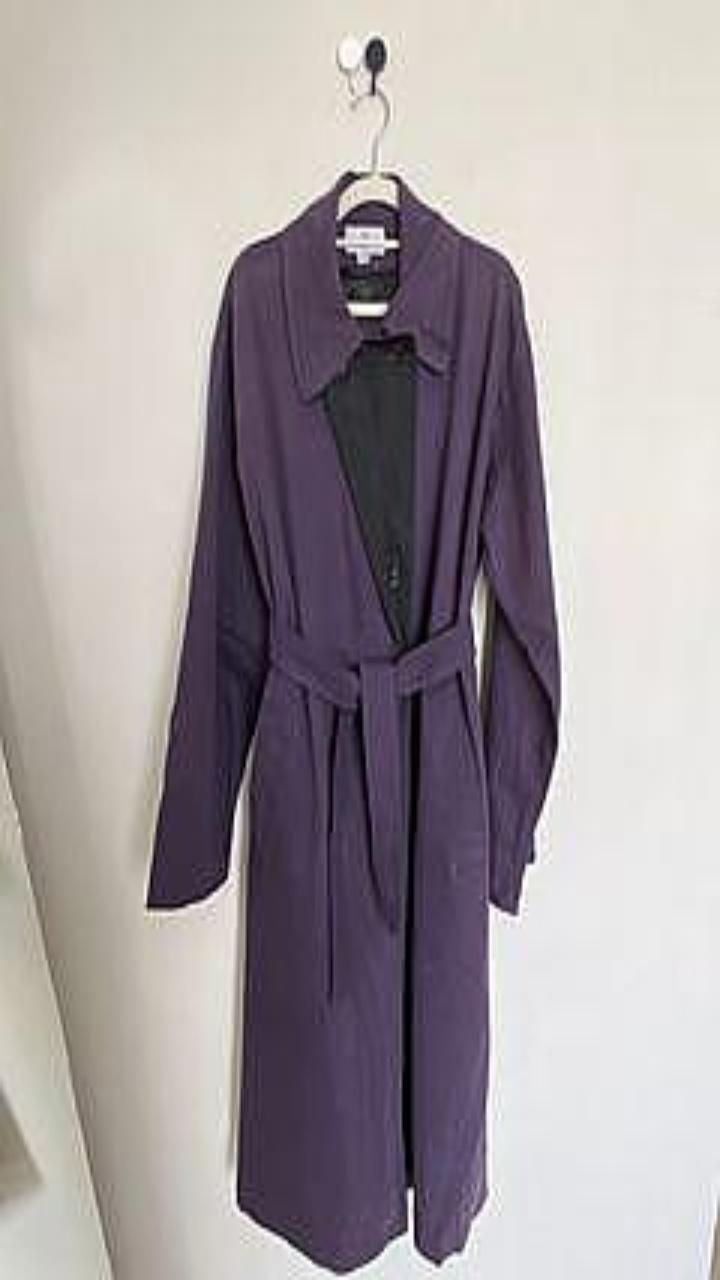Coat: (146, 170, 559, 1271)
